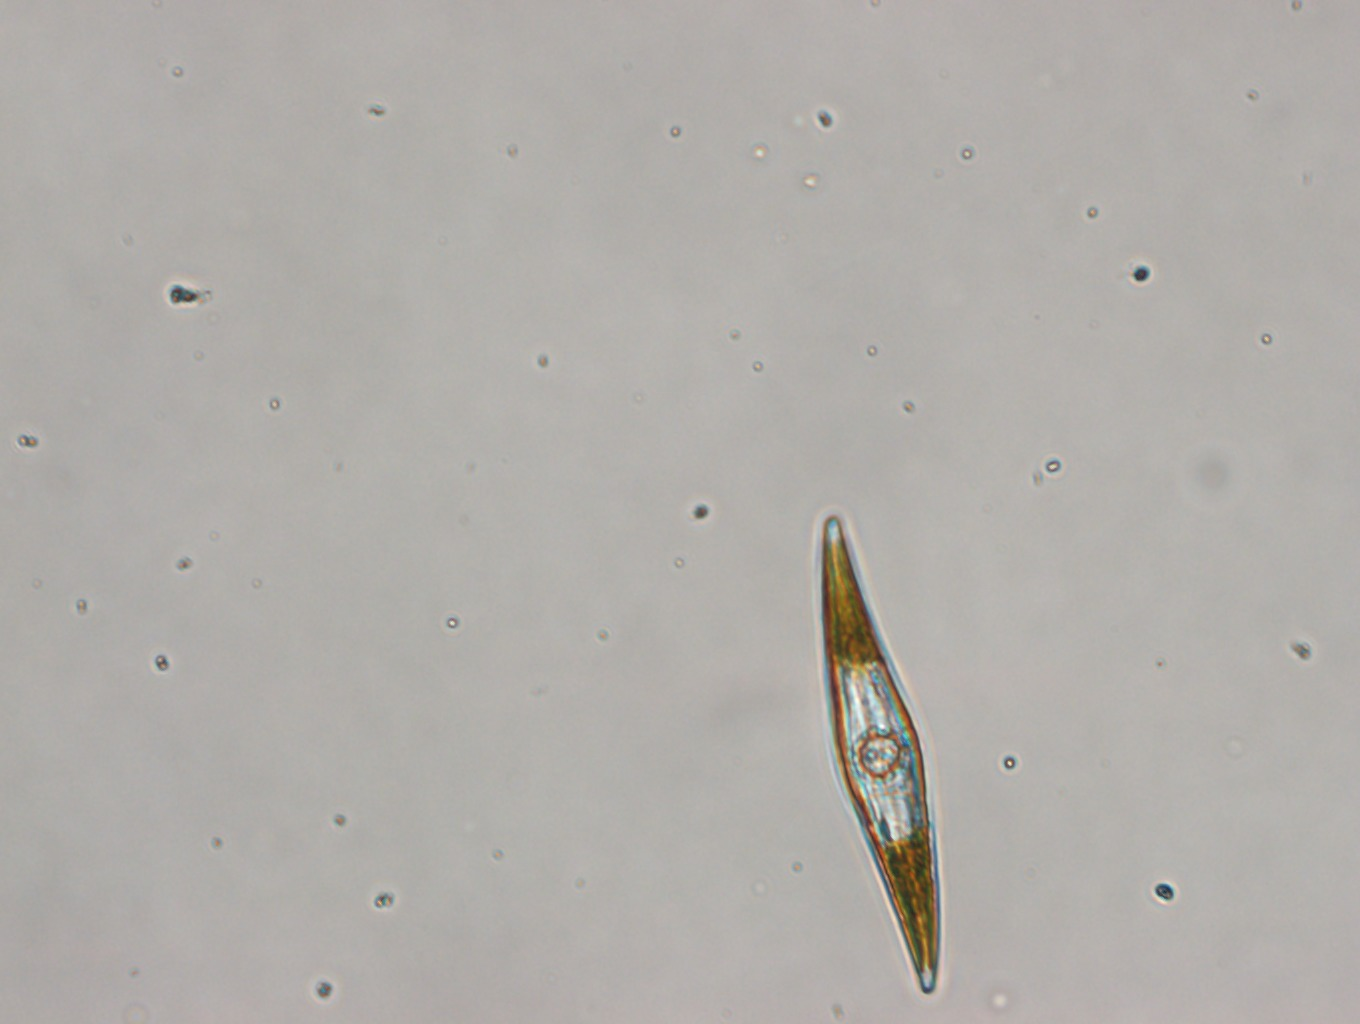pleurosigma pelagicum: (819, 515, 943, 996)
